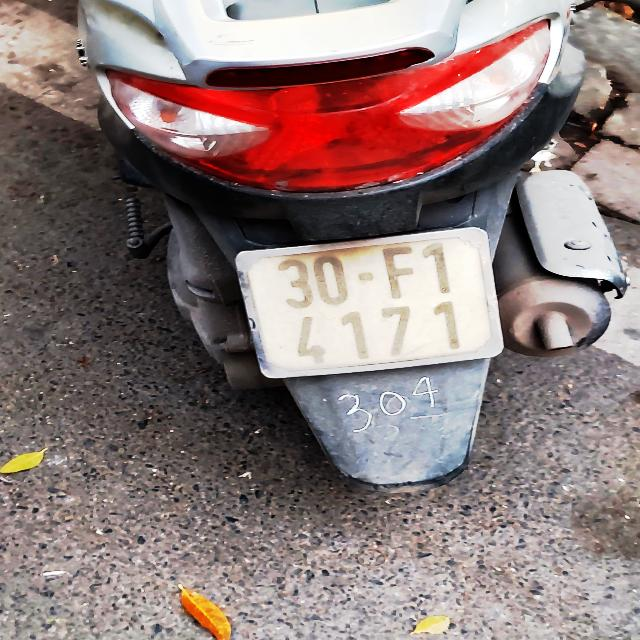license_plate: (229, 221, 510, 383)
